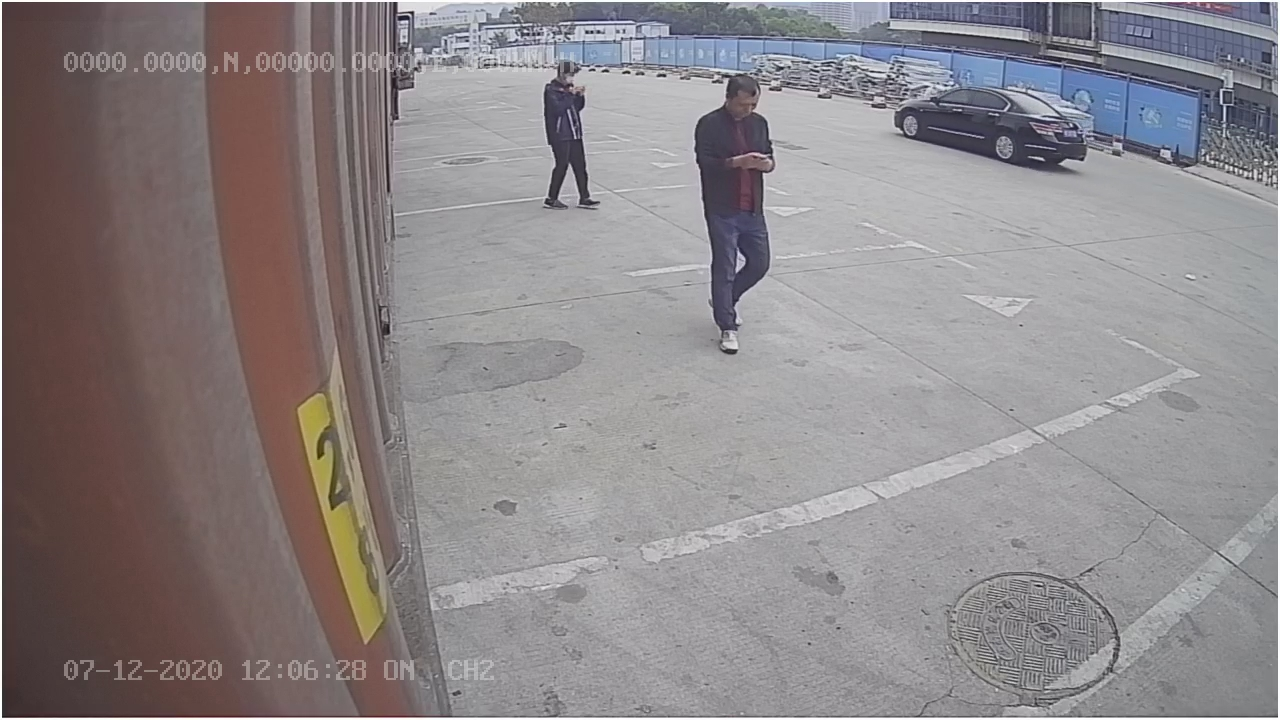person: (690, 71, 780, 352)
